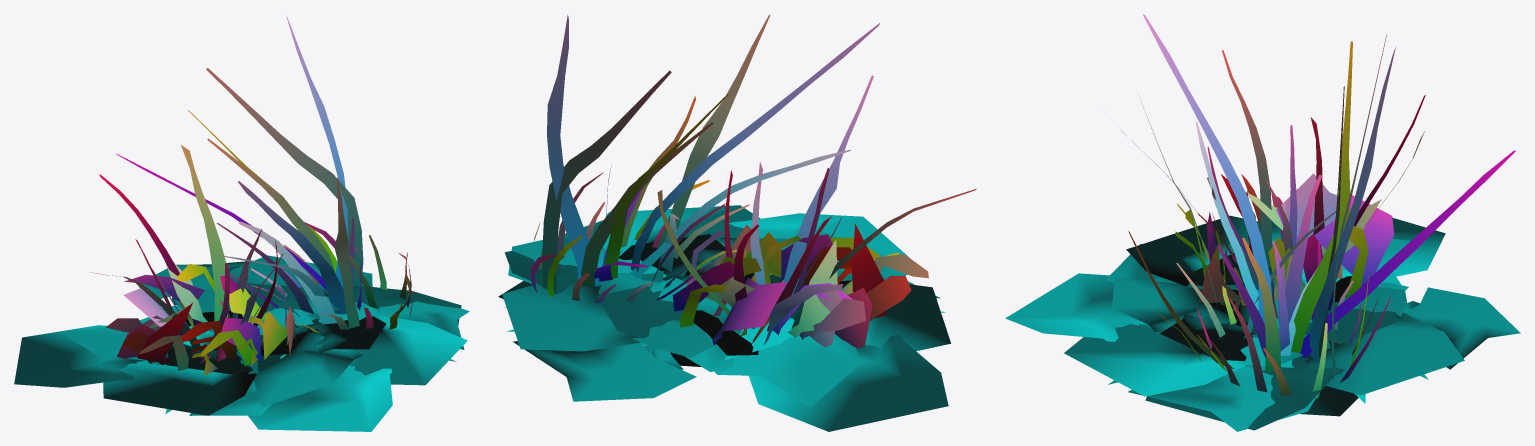
Rendered from Wild_Grass_vczndjqja_High_vczndjqja_VarB_LOD0.fbx.
3 renders of one model, left to right at view 1: azimuth 30°, elevation 25°; view 2: azimuth 150°, elevation 25°; view 3: azimuth 270°, elevation 25°, orthographic. The views are drawn at different scales.
Visible parts, largest first — view 1: _ov2c_VarB_LOD0; view 2: _ov2c_VarB_LOD0; view 3: _ov2c_VarB_LOD0.
Boxes of the visible parts, x1,y1,x2,y2 form: _ov2c_VarB_LOD0: (14, 15, 469, 431); _ov2c_VarB_LOD0: (498, 14, 976, 431); _ov2c_VarB_LOD0: (1005, 14, 1520, 431).
Bounding box in the file's own units: 64.29 × 42.01 × 59.73.
